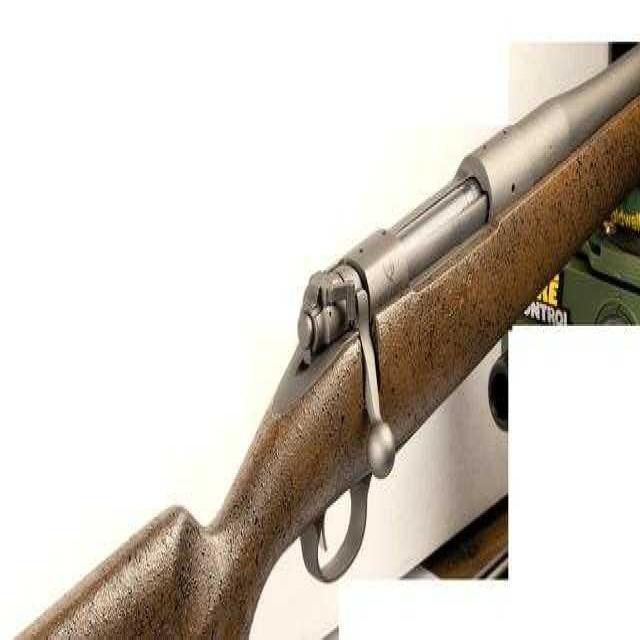weapon: (25, 8, 630, 640)
